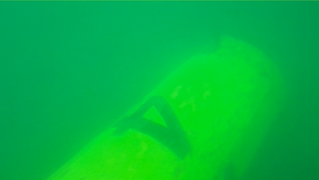4: (111, 94, 193, 161), (223, 162, 239, 180)
pipe: (46, 34, 286, 180)
